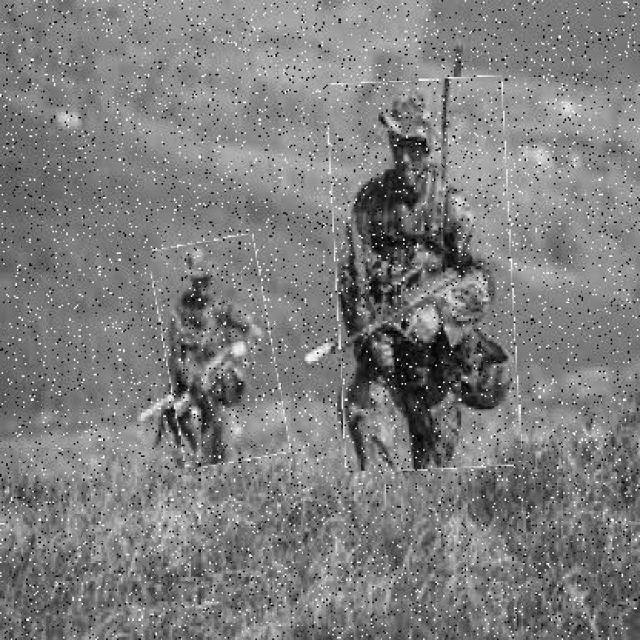Person: (332, 79, 516, 472), (158, 240, 282, 467)
